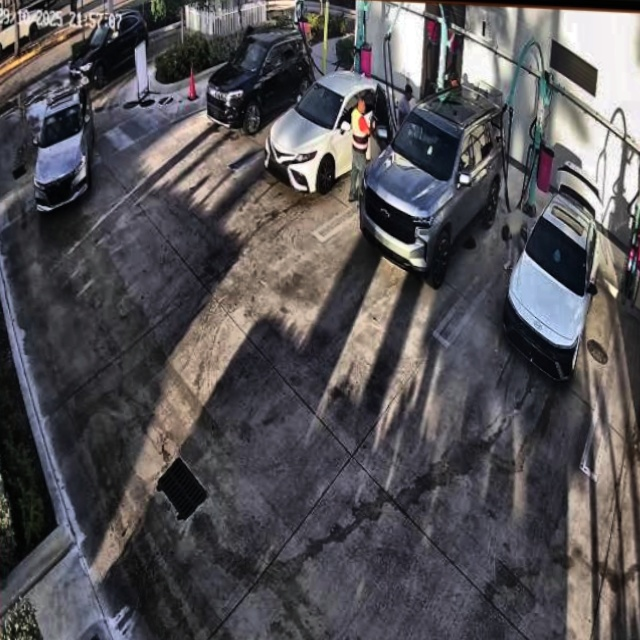Car: (358, 81, 506, 287), (265, 69, 401, 194)
